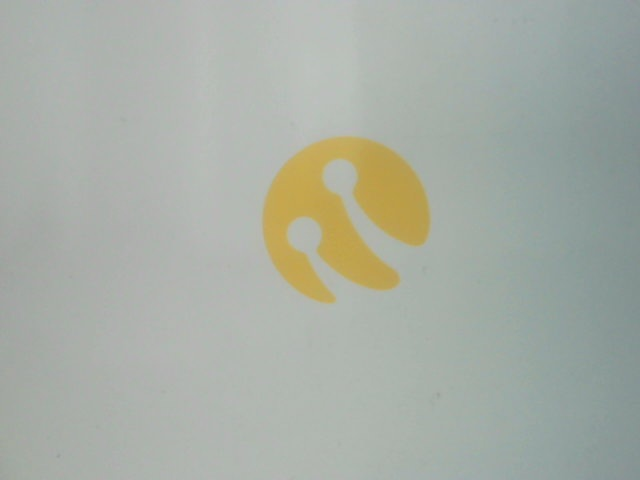AV_H3600Yellow: (252, 134, 443, 303)
